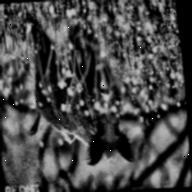boar: (15, 20, 136, 174)
